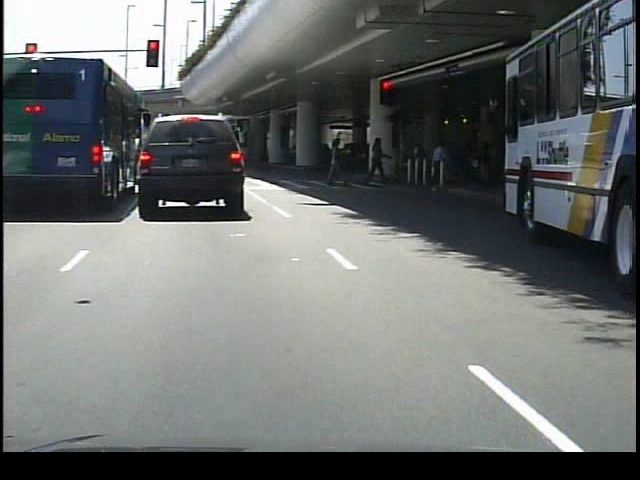person: (365, 132, 391, 187), (324, 132, 349, 187), (427, 136, 451, 192)
